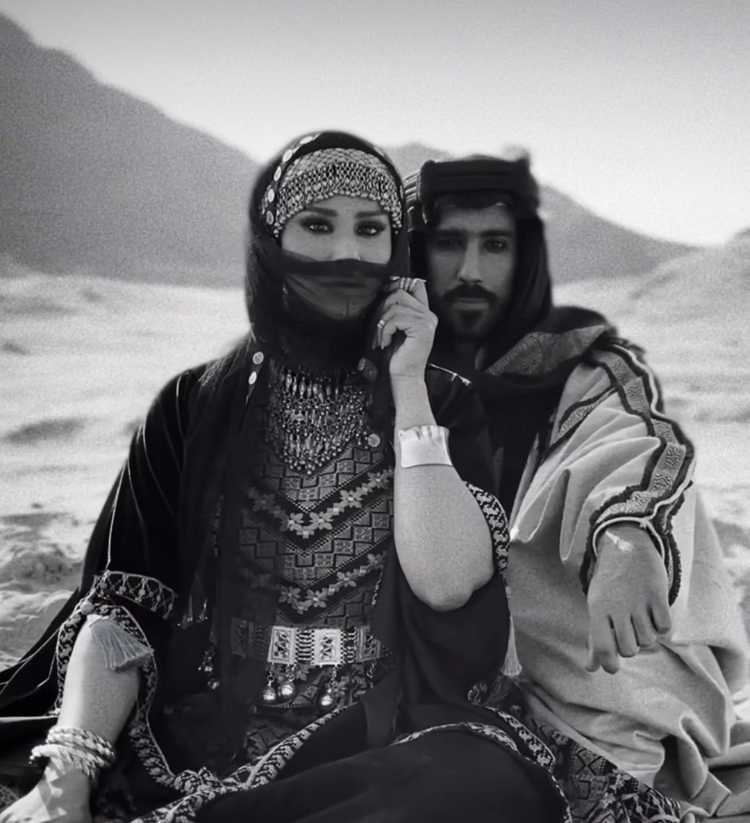Saudi_Founding_Day: (4, 125, 578, 823), (401, 128, 750, 798)
